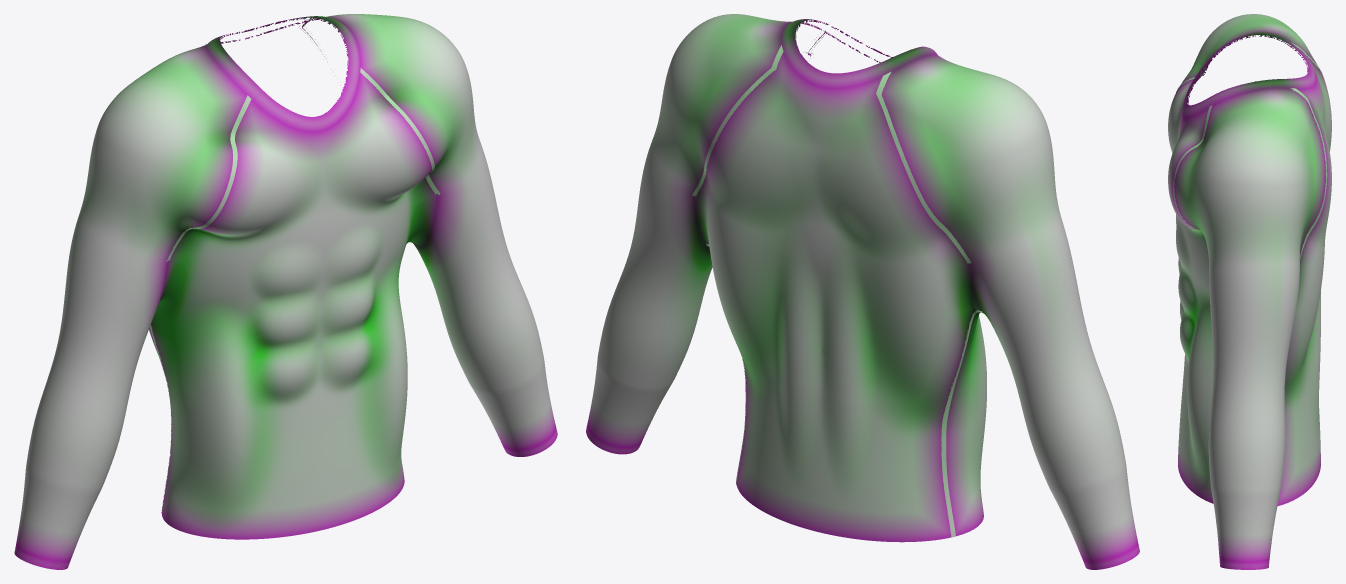
File: compressionls.glb
3 views of the same model, side by side, from view 1: azimuth 30°, elevation 25°; view 2: azimuth 150°, elevation 25°; view 3: azimuth 270°, elevation 25° (orthographic). The views are drawn at different scales.
Visible parts, largest first — view 1: front, sleeve_r, sleeve_l, collar, piping; view 2: back, sleeve_r, sleeve_l, front, piping, collar; view 3: sleeve_l, front, back, sleeve_r, collar, piping.
Part boxes in pixels (x1,y1,x2,y2): front: (151,71,438,539); sleeve_r: (14,45,247,569); sleeve_l: (302,14,557,456); collar: (206,16,360,131); piping: (150,18,440,513); back: (694,52,981,542); sleeve_r: (881,54,1139,569); sleeve_l: (586,14,825,454); front: (709,33,986,536); piping: (692,30,983,537); collar: (781,19,937,88); sleeve_l: (1174,88,1325,569); front: (1168,59,1213,503); back: (1277,49,1331,505); sleeve_r: (1180,14,1317,86); collar: (1182,32,1315,117); piping: (1173,42,1327,506).
Bounding box in the file's own units: 0.7893 × 0.6569 × 0.2375.
